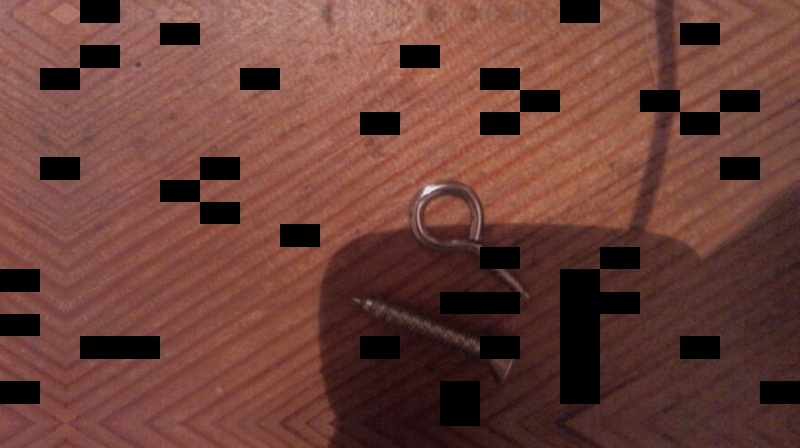O001: (410, 179, 532, 302)
S001: (350, 294, 520, 385)
